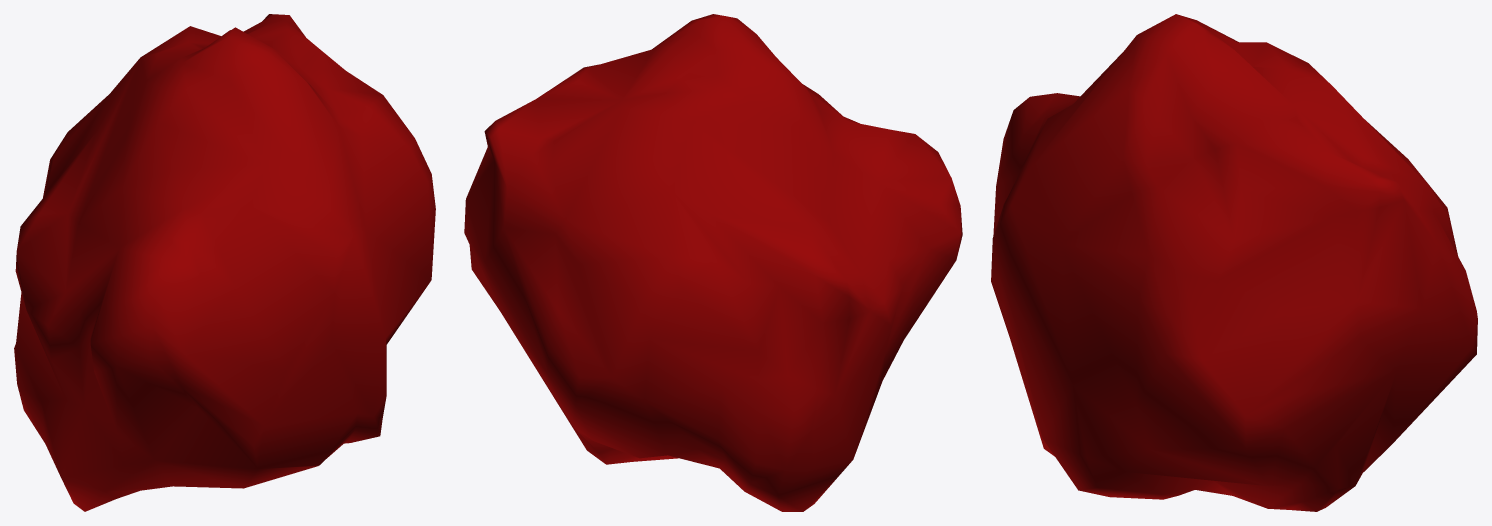
Rendered from Asteroid5.FBX.
The picture shows the model from 3 angles, left to right: view 1: azimuth 30°, elevation 25°; view 2: azimuth 150°, elevation 25°; view 3: azimuth 270°, elevation 25°; orthographic projection. The views are drawn at different scales.
Visible parts, largest first — view 1: Sphere09; view 2: Sphere09; view 3: Sphere09.
Boxes of the visible parts, x1,y1,x2,y2 form: Sphere09: (14, 14, 435, 511); Sphere09: (464, 14, 962, 511); Sphere09: (991, 14, 1477, 511).
Size of the model in its own units: 697 by 730 by 646.
